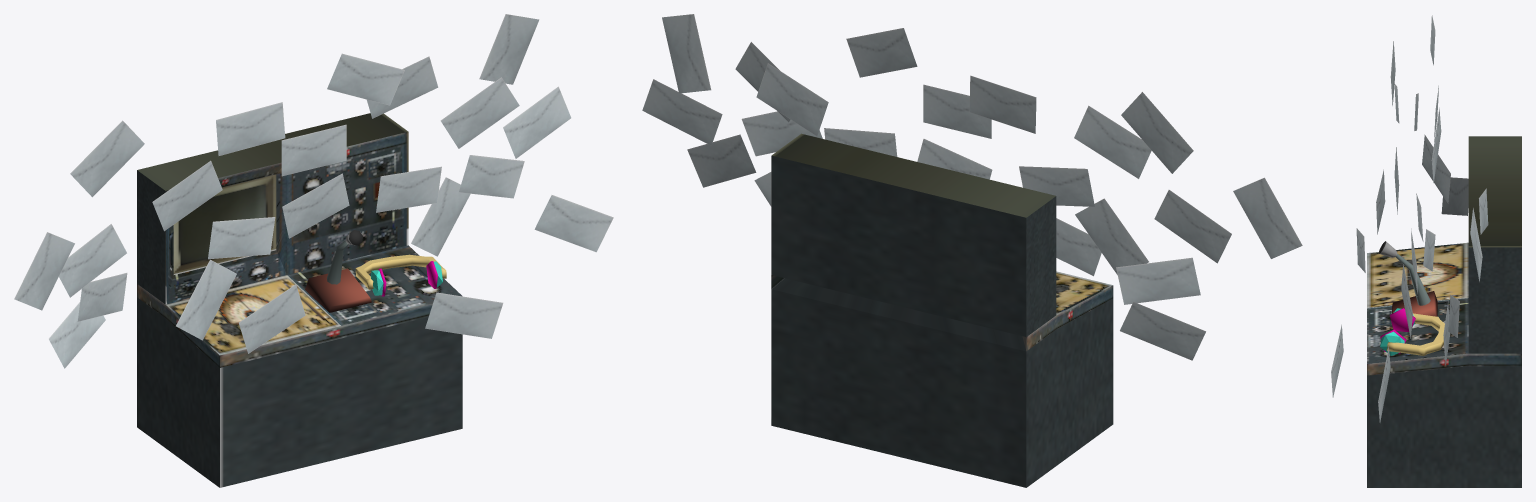
The model's file is contact_table.glb.
3 renders of one model, left to right at view 1: azimuth 30°, elevation 25°; view 2: azimuth 150°, elevation 25°; view 3: azimuth 270°, elevation 25°, orthographic. The views are drawn at different scales.
Size of the model in its own units: 12.62 by 7.45 by 3.76.
2 materials, 1 textured.
